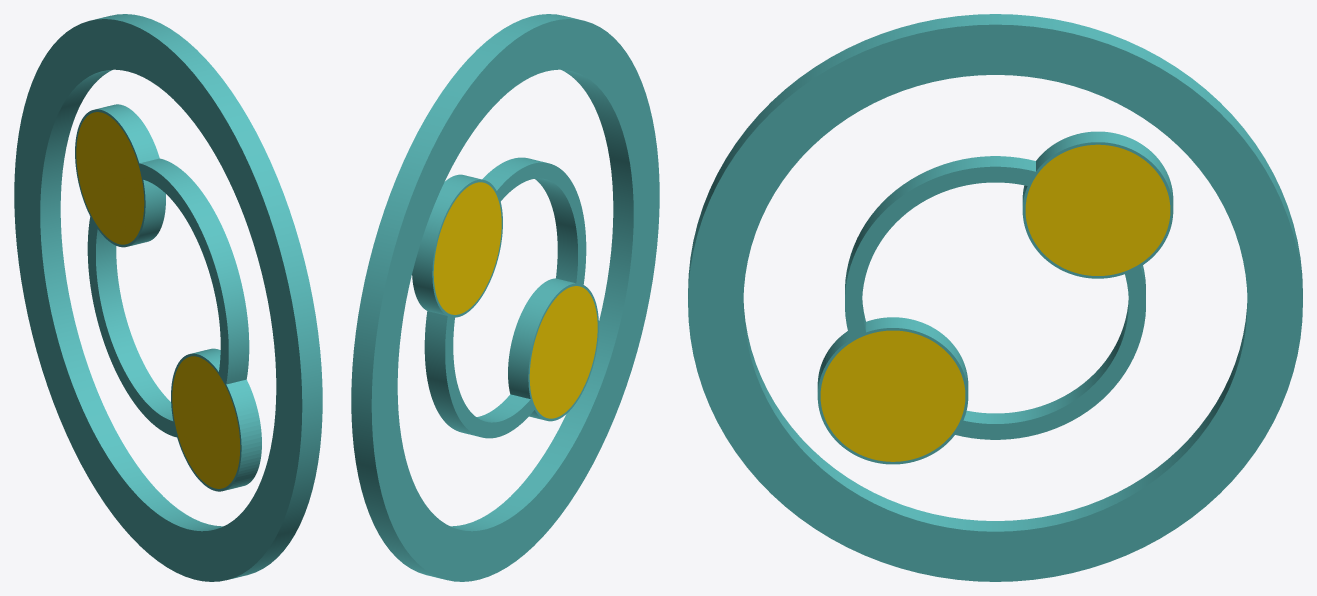
Rendered from collectable_advanced.dae.
The picture shows the model from 3 angles, left to right: view 1: azimuth 30°, elevation 25°; view 2: azimuth 150°, elevation 25°; view 3: azimuth 270°, elevation 25°; orthographic projection. The views are drawn at different scales.
Parts seen in each view (by area): view 1: Component_1 (×7); view 2: Component_1 (×7); view 3: Component_1 (×7).
Part boxes in pixels (left/top/right/bottom): Component_1 (×7): left=14, top=14, right=322, bottom=581; Component_1 (×7): left=351, top=14, right=659, bottom=581; Component_1 (×7): left=688, top=14, right=1302, bottom=581.
Bounding box in the file's own units: 12.2 × 298 × 298.
